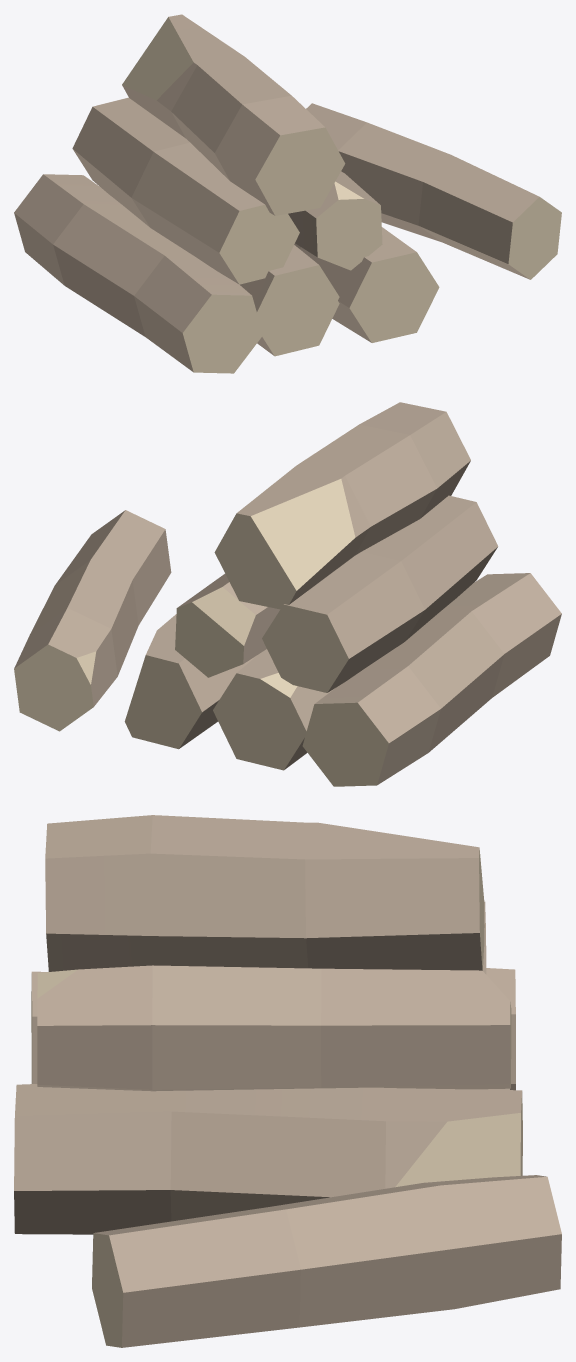
Rendered from Hilly_Prop_Camp_Wood_Pile.glb.
3 views of the same model, one above another, from view 1: azimuth 30°, elevation 25°; view 2: azimuth 150°, elevation 25°; view 3: azimuth 270°, elevation 25° (orthographic). The views are drawn at different scales.
Parts seen in each view (by area): view 1: Hilly_Prop_Camp_Wood_Pile; view 2: Hilly_Prop_Camp_Wood_Pile; view 3: Hilly_Prop_Camp_Wood_Pile.
Boxes of the visible parts, x1,y1,x2,y2 form: Hilly_Prop_Camp_Wood_Pile: (14, 14, 561, 373); Hilly_Prop_Camp_Wood_Pile: (14, 402, 561, 786); Hilly_Prop_Camp_Wood_Pile: (14, 815, 561, 1347).
Bounding box in the file's own units: 0.8912 × 0.4737 × 0.6918.
